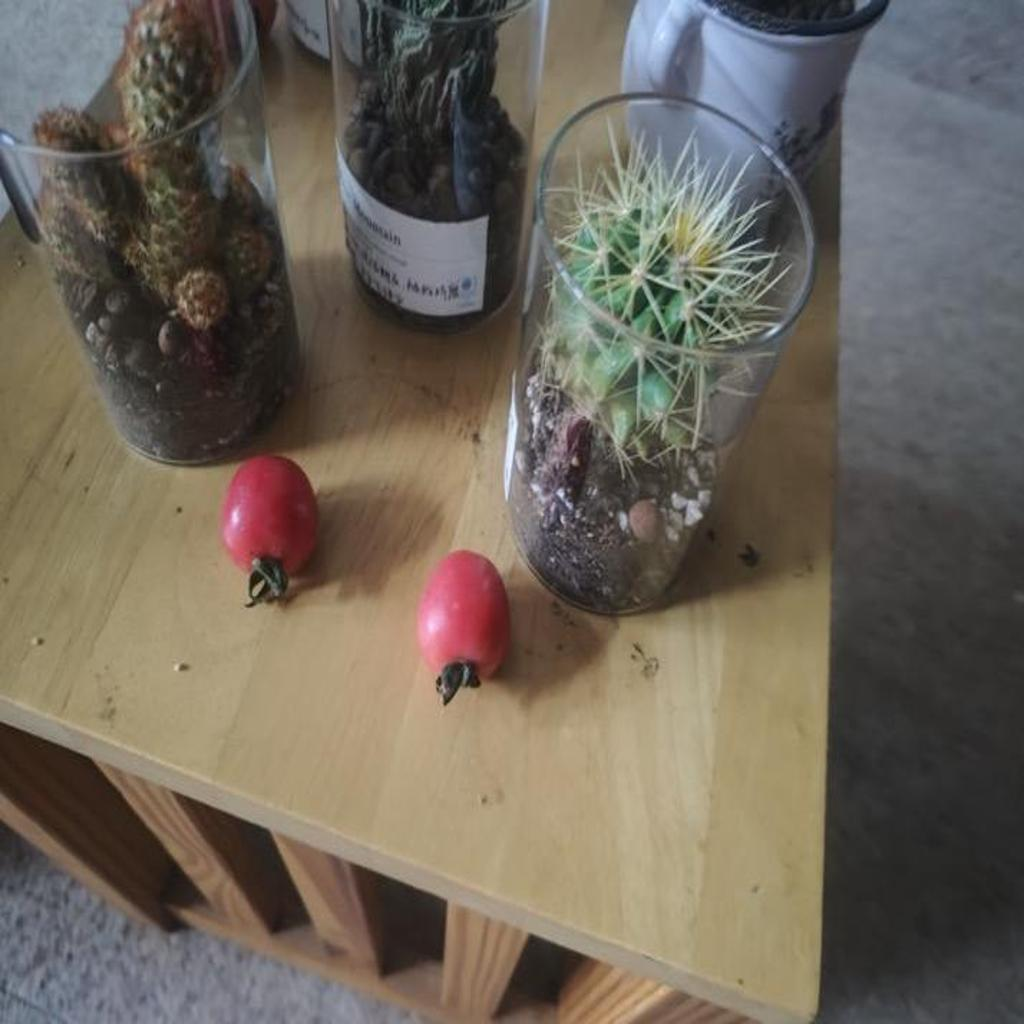tomato: (217, 451, 321, 583), (421, 548, 512, 680)
